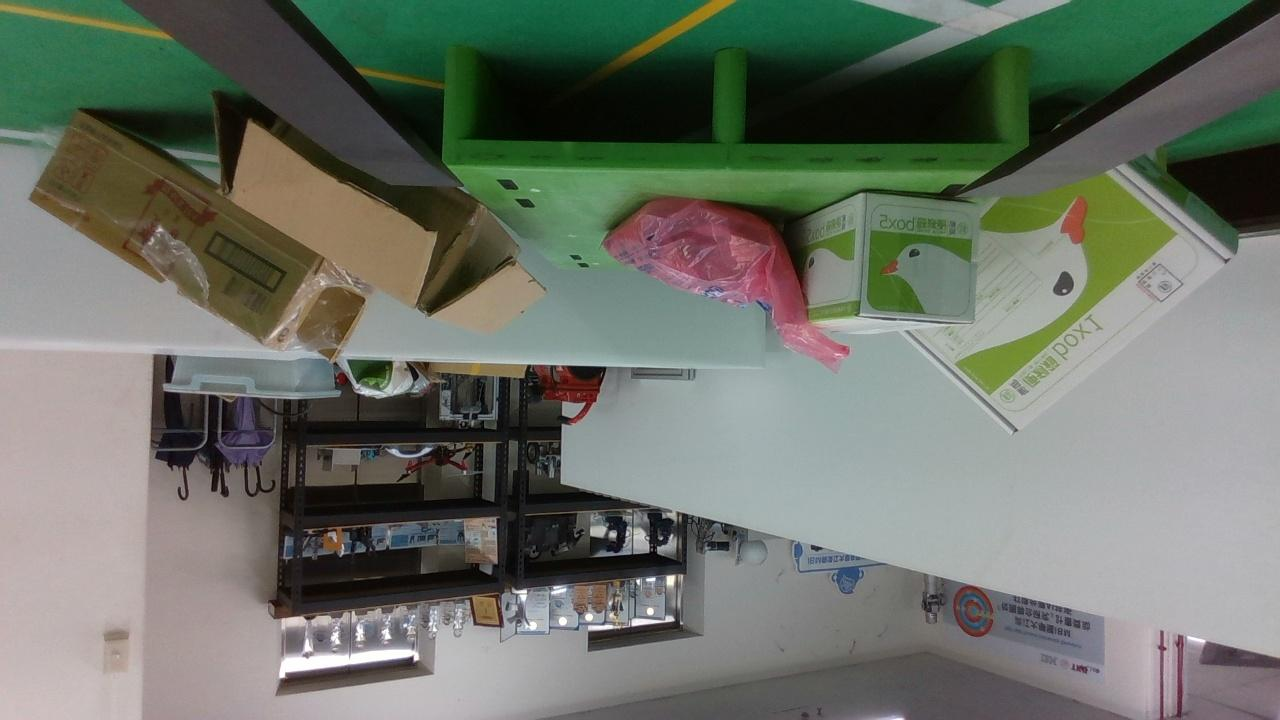Pallet: (442, 48, 1031, 173)
